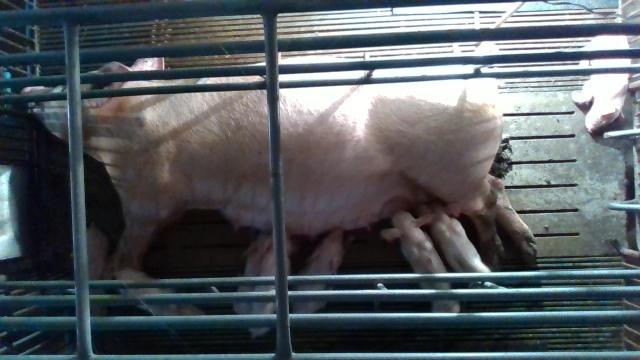piglet: (381, 211, 460, 312), (109, 268, 209, 339), (572, 35, 630, 133), (246, 236, 291, 336), (292, 230, 344, 313), (431, 209, 492, 272), (234, 234, 273, 315), (85, 226, 107, 316)
sow-sleep-lactate: (23, 55, 537, 309)
